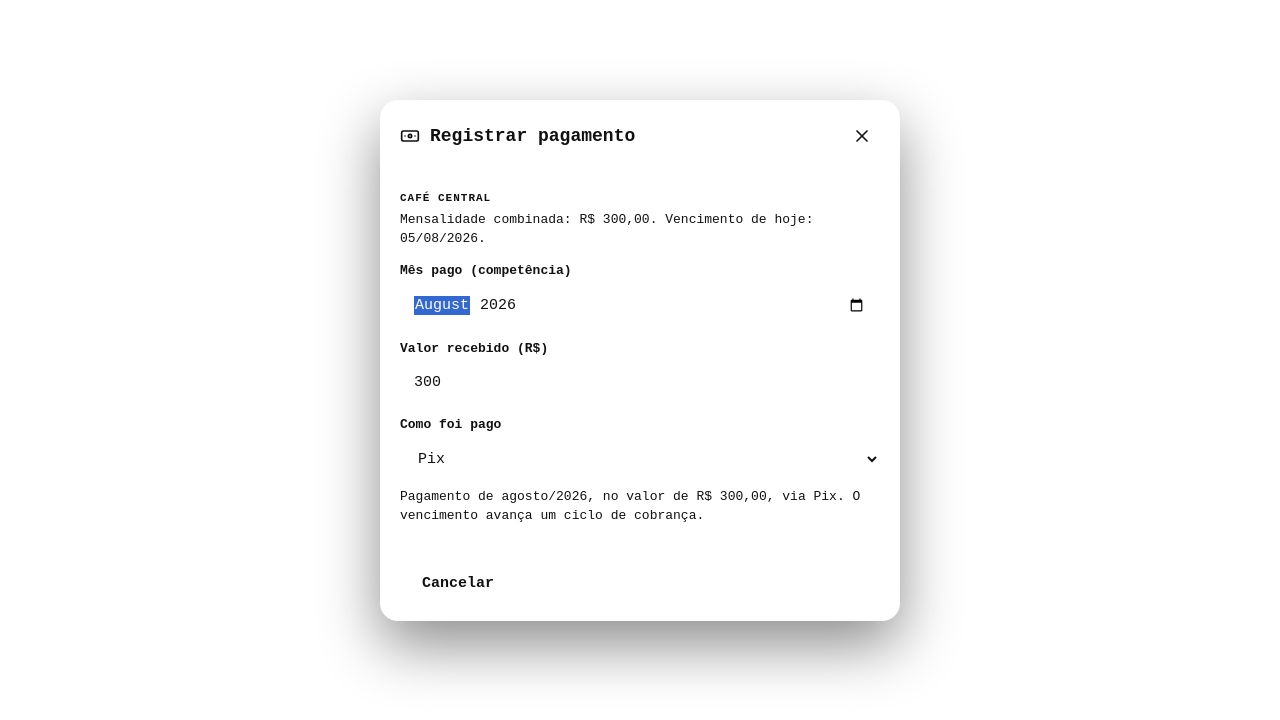
Test: ConfirmarRenovacaoModal, dar baixa na mensalidade › competência apagada trava o botão e diz o que fazer
Clear the field labelled "Mês pago (competência)" at [640, 305], box x1=400 y1=284 x2=880 y2=326
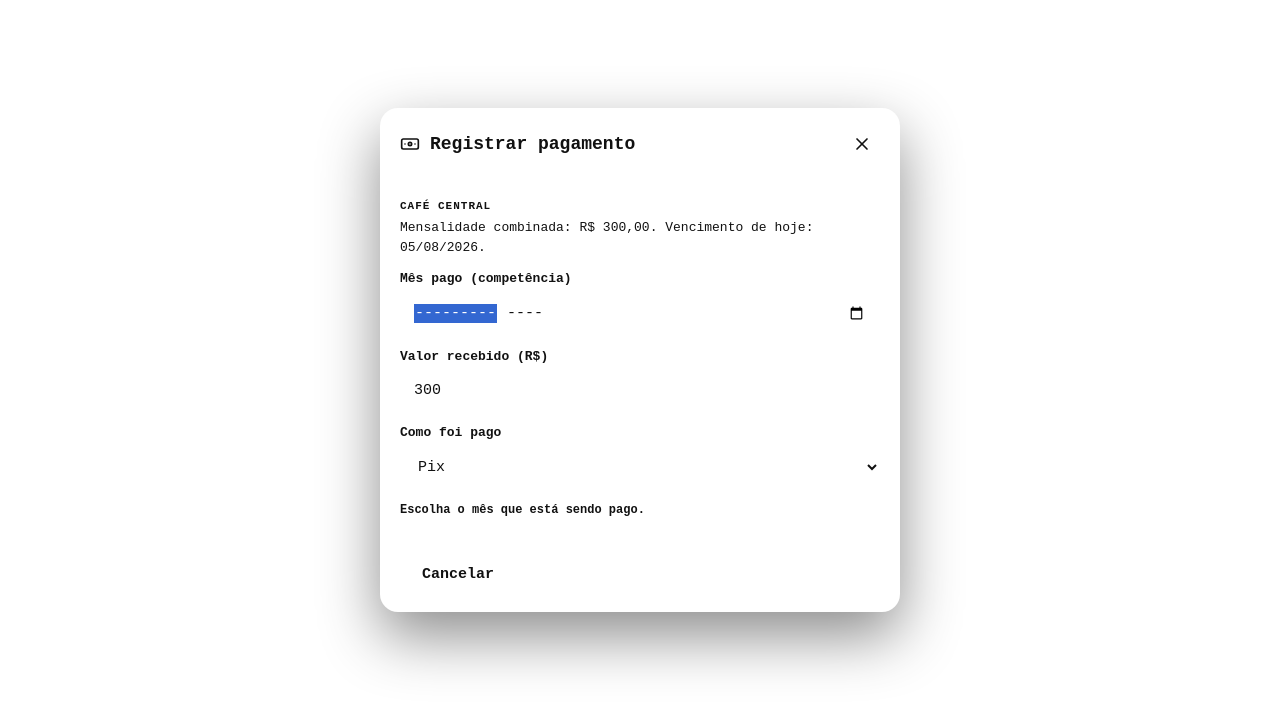
Check: the message shows "Escolha o mês", box x1=400 y1=503 x2=645 y2=517
